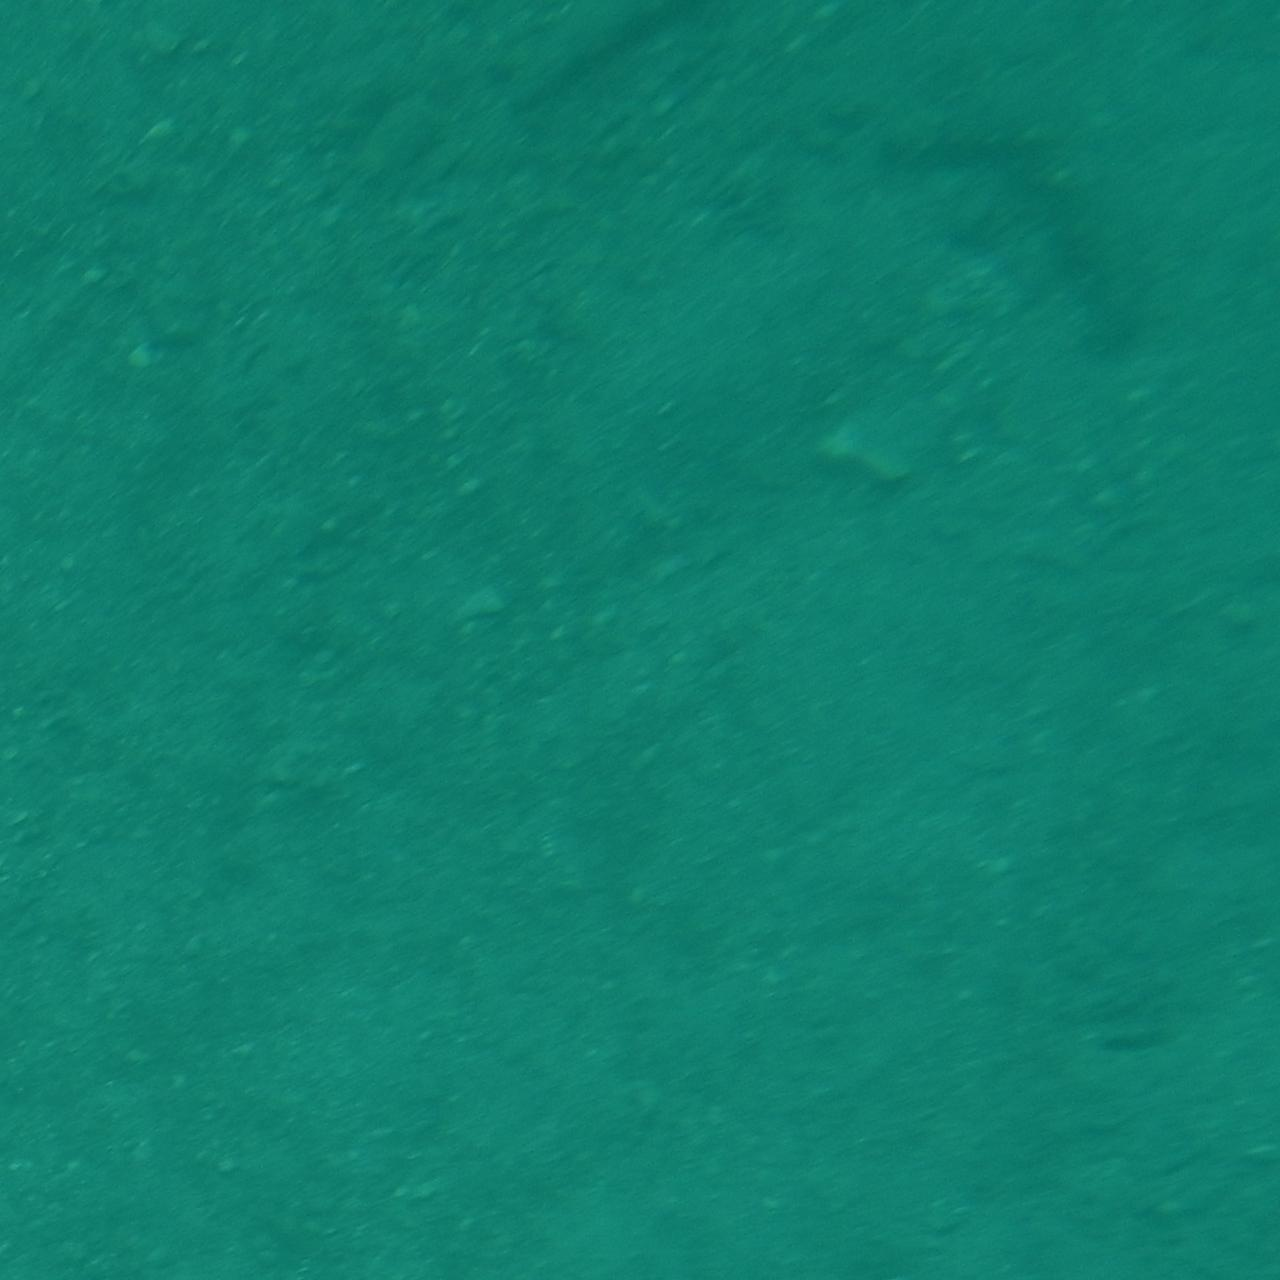Holothuria tubulosa: (802, 110, 1151, 354)
